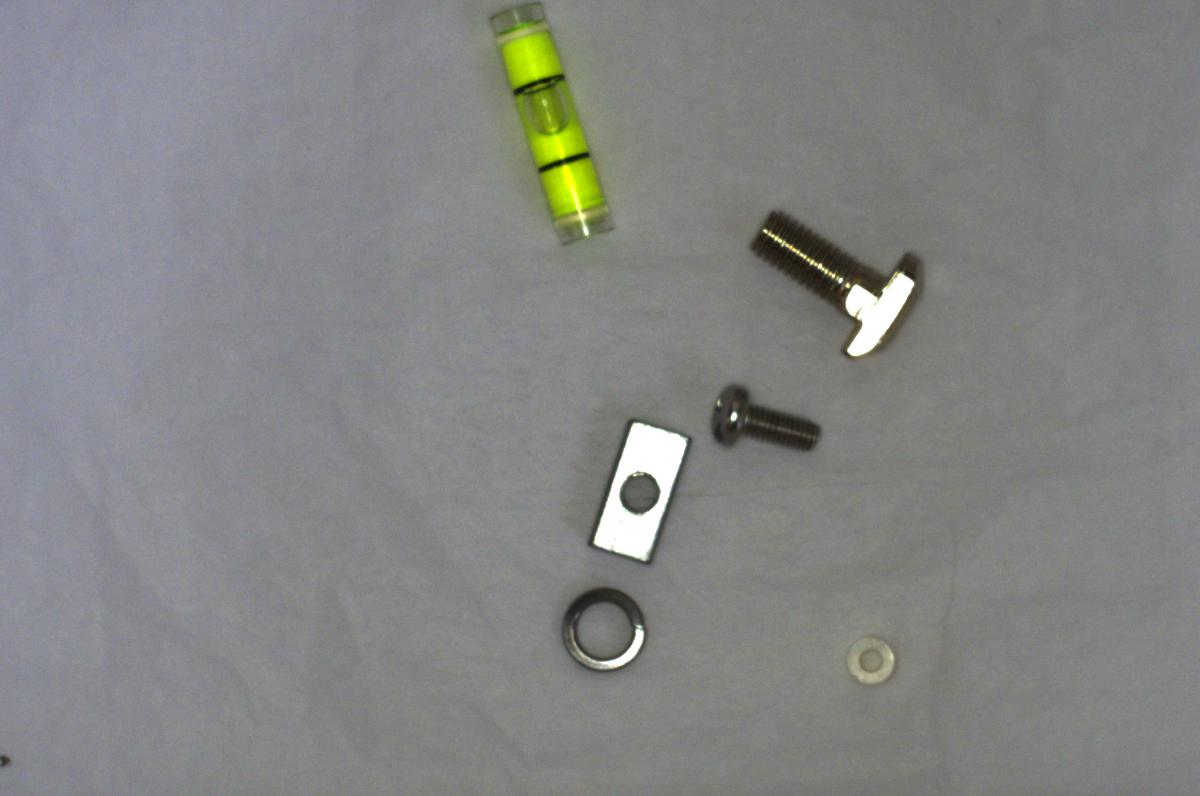Horizontal bubble: (480, 1, 621, 249)
Plastic cushion pillar: (840, 629, 905, 692)
Rectangular nut: (588, 414, 685, 561)
Round head screw: (700, 380, 832, 465)
Spring washer: (553, 580, 650, 679)
T-shaped screw: (746, 209, 933, 359)
